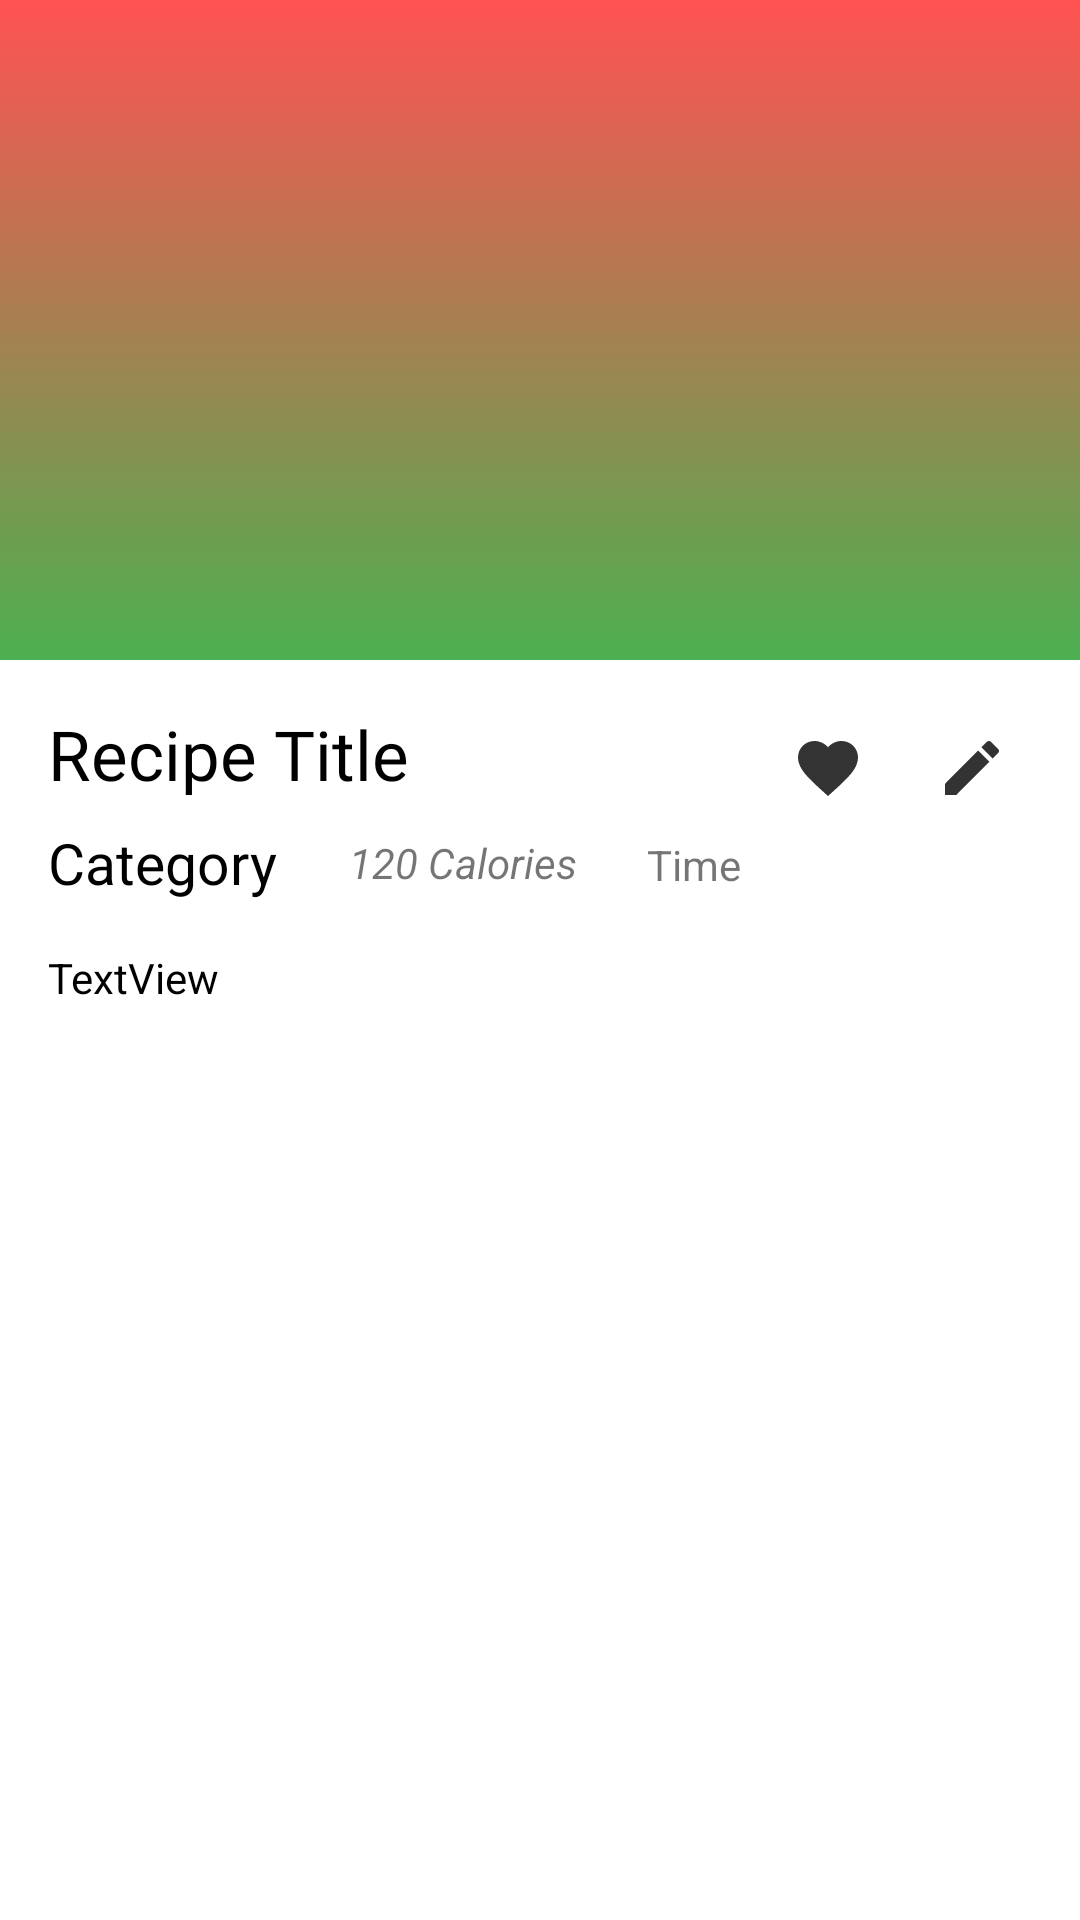

Icon click points for this 1080 x 1920 phone screenshot, format point (x, y):
edit: point (972, 768)
favourite: point (828, 768)
